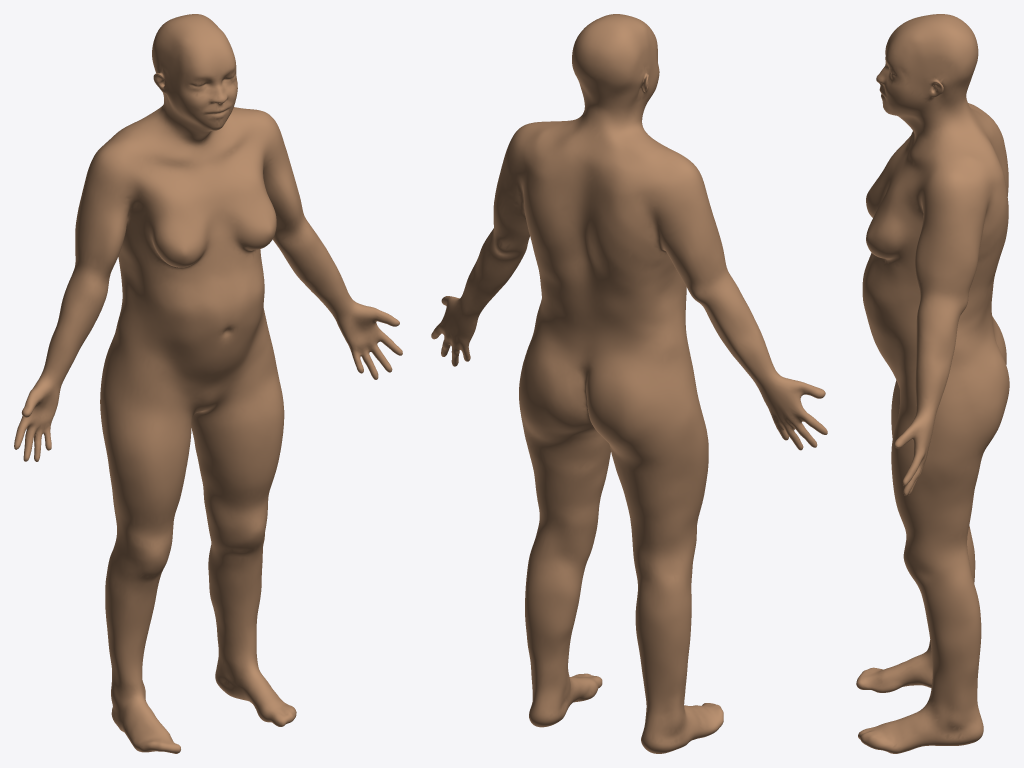
File: body-female-skin-standard.glb
3 renders of one model, left to right at view 1: azimuth 30°, elevation 25°; view 2: azimuth 150°, elevation 25°; view 3: azimuth 270°, elevation 25°, orthographic.
Visible parts, largest first — view 1: female_body_base; view 2: female_body_base; view 3: female_body_base.
Boxes of the visible parts, <box> form: female_body_base: <box>14,14,402,753</box>; female_body_base: <box>431,14,827,753</box>; female_body_base: <box>856,14,1009,753</box>.
Bounding box in the file's own units: 0.9674 × 1.67 × 0.3293.
